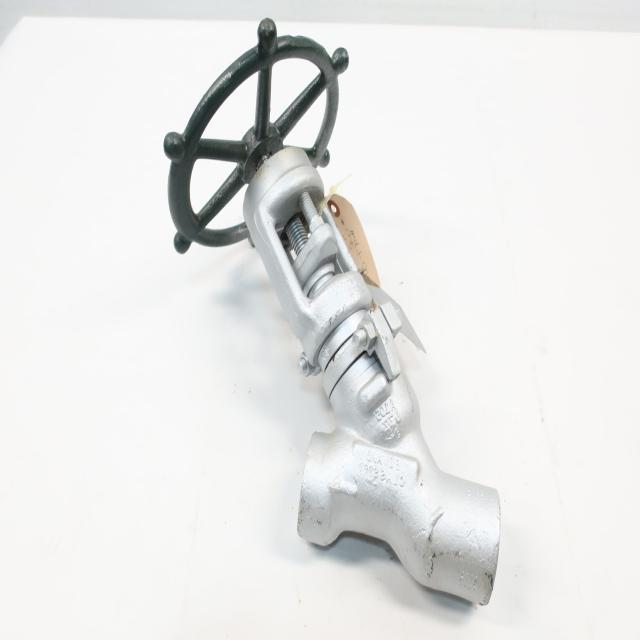Wheel Handle Valve Threaded: (145, 5, 356, 273)
